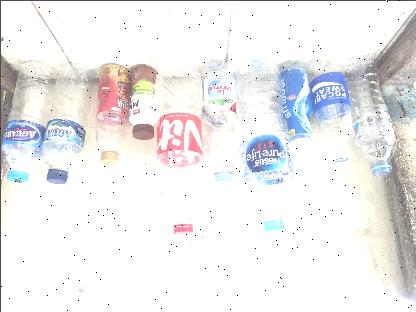Plastic Bottle: (234, 52, 296, 232), (154, 68, 206, 234), (2, 60, 57, 182), (41, 62, 91, 184), (346, 60, 396, 176), (200, 60, 240, 186), (310, 70, 352, 162), (95, 63, 129, 165), (278, 60, 314, 154), (128, 64, 156, 140)
